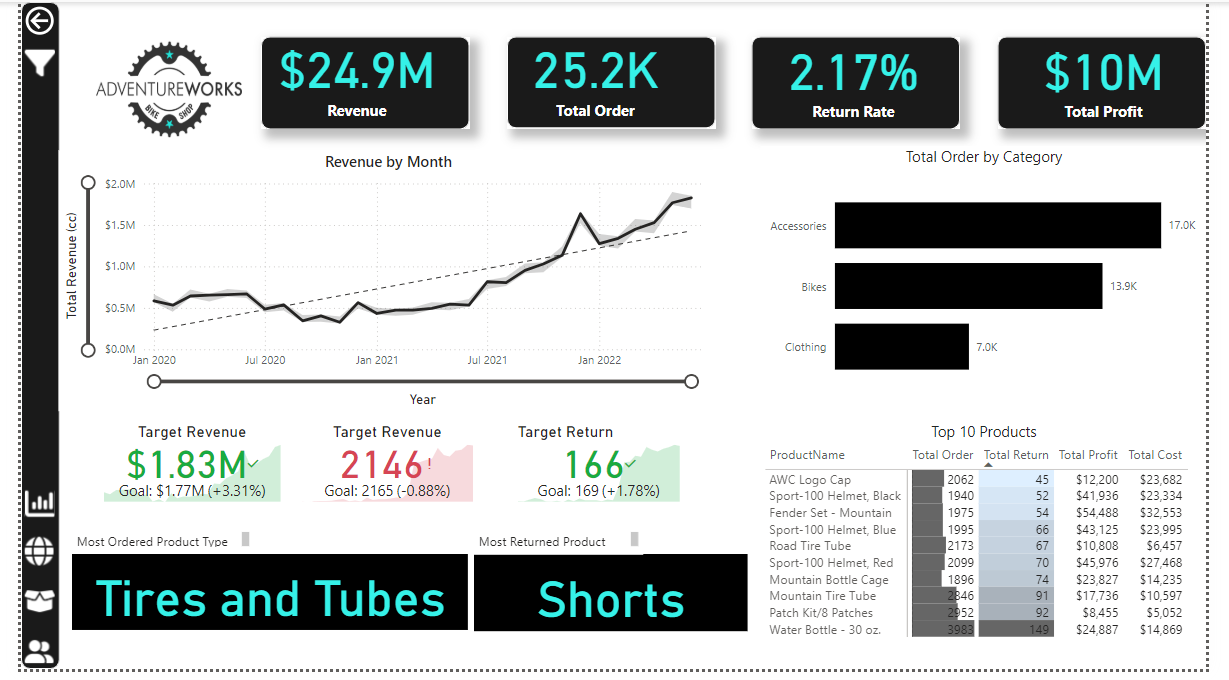

Layout of this report page (visuals, bound fields, positions):
{"tool":"powerbi","page":{"name":"Executive Dashboard","canvas":[1280,720],"ordinal":0},"visuals":[{"type":"image","title":"Logo","box":[57.7,0,203.4,189],"z":0},{"type":"card","fields":{"Values":["Measure.Total Revenue (cc)"]},"box":[269,0,186.8,155.3],"z":0,"group":"g2"},{"type":"shape","box":[259.2,37.2,225,100.3],"z":0,"group":"g1"},{"type":"actionButton","box":[0,520.7,41.6,40.4],"z":0,"group":"g3"},{"type":"card","fields":{"Values":["Measure.Total Order"]},"box":[534.7,5.6,170.8,145.5],"z":1000,"group":"g2"},{"type":"group","id":"g1","title":"KPI Rectangles","box":[259.2,37.2,1019.5,100.3],"z":1000},{"type":"shape","box":[1053.7,37.2,225,100.3],"z":1000,"group":"g1"},{"type":"actionButton","box":[0,625.9,41.6,40.4],"z":1000,"group":"g3"},{"type":"shape","box":[0,0,41.8,719.9],"z":2000},{"type":"card","fields":{"Values":["Measure.Total Profit"]},"box":[1057.2,29.4,221.9,100.7],"z":2000,"group":"g2"},{"type":"shape","box":[789.1,37.2,225,100.3],"z":2000,"group":"g1"},{"type":"actionButton","box":[0.5,680.9,41.1,39.1],"z":2000,"group":"g3"},{"type":"card","fields":{"Values":["Measure.Return Rate"]},"box":[804.7,7,186.8,145.5],"z":3000,"group":"g2"},{"type":"shape","box":[524.1,37.2,225,99],"z":3000,"group":"g1"},{"type":"lineChart","title":"Revenue by Month","fields":{"Y":["Measure.Total Revenue (cc)"],"Category":["Calendar Lookup.Start of Year Hierarchy.Start of Month"]},"box":[41.2,160.5,712.2,281.3],"z":3000},{"type":"actionButton","box":[0,573.3,41.1,39.1],"z":3000,"group":"g3"},{"type":"kpi","title":"Target Revenue ","fields":{"Indicator":["Measure.Total Revenue (cc)"],"Goal":["Measure.Previous Mon Rev"],"TrendLine":["Calendar Lookup.Start of Month"]},"box":[84.1,453,201.2,91.2],"z":4000},{"type":"kpi","title":"Target Return ","fields":{"TrendLine":["Calendar Lookup.Start of Month"],"Indicator":["Measure.Total Return"],"Goal":["Measure.Previous Mon Return"]},"box":[530.3,453,185,91.2],"z":5000},{"type":"barChart","title":"Total Order by Category","fields":{"Category":["Product Categories Lookup.CategoryName"],"Y":["Measure.Total Order"]},"box":[797.5,155,482.5,275],"z":6000},{"type":"kpi","title":"Target Revenue ","fields":{"TrendLine":["Calendar Lookup.Start of Month"],"Indicator":["Measure.Total Order"],"Goal":["Measure.Previous Mon Orders"]},"box":[297.8,453,195,91.2],"z":7000},{"type":"pivotTable","title":"Top 10 Products ","fields":{"Values":["Measure.Total Order","Measure.Total Return","Measure.Total Profit","Measure.Total Cost"],"Rows":["Product Lookup.ProductName"]},"box":[797.5,451.2,482.5,243.8],"z":8000},{"type":"card","fields":{"Values":["Min(Product Subcategories Lookup.SubcategoryName)"]},"box":[55.9,595.8,427,81.9],"z":9000},{"type":"card","fields":{"Values":["Min(Product Subcategories Lookup.SubcategoryName)"]},"box":[489.1,595.8,295.4,83.2],"z":10000},{"type":"textbox","box":[55.9,566,196.1,26.1],"z":11000},{"type":"textbox","box":[489.1,566,182.5,29.8],"z":12000},{"type":"group","id":"g2","title":"Group 1","box":[269,0,1010.1,151.6],"z":13000},{"type":"actionButton","box":[0,0,41.6,40.4],"z":14000},{"type":"group","id":"g3","title":"Group 1","box":[0,520.7,41.6,199.3],"z":15000},{"type":"actionButton","box":[0,45.9,42.2,41],"z":16000}]}

Visuals, with their boxes on the page's 1280x720 design canvas (x1, y1, x2, y2). These are canvas units, not pixel positions in the 1229x680 screenshot, which may show the page scaled, cropped or inside an application window:
"Logo" image: [x1=58, y1=0, x2=261, y2=189]
card - Measure.Total Revenue (cc): [x1=269, y1=0, x2=456, y2=155]
shape: [x1=259, y1=37, x2=484, y2=138]
actionButton: [x1=0, y1=521, x2=42, y2=561]
card - Measure.Total Order: [x1=535, y1=6, x2=706, y2=151]
"KPI Rectangles" group: [x1=259, y1=37, x2=1279, y2=138]
shape: [x1=1054, y1=37, x2=1279, y2=138]
actionButton: [x1=0, y1=626, x2=42, y2=666]
shape: [x1=0, y1=0, x2=42, y2=720]
card - Measure.Total Profit: [x1=1057, y1=29, x2=1279, y2=130]
shape: [x1=789, y1=37, x2=1014, y2=138]
actionButton: [x1=0, y1=681, x2=42, y2=720]
card - Measure.Return Rate: [x1=805, y1=7, x2=992, y2=152]
shape: [x1=524, y1=37, x2=749, y2=136]
"Revenue by Month" lineChart: [x1=41, y1=160, x2=753, y2=442]
actionButton: [x1=0, y1=573, x2=41, y2=612]
"Target Revenue " kpi: [x1=84, y1=453, x2=285, y2=544]
"Target Return " kpi: [x1=530, y1=453, x2=715, y2=544]
"Total Order by Category" barChart: [x1=798, y1=155, x2=1280, y2=430]
"Target Revenue " kpi: [x1=298, y1=453, x2=493, y2=544]
"Top 10 Products " pivotTable: [x1=798, y1=451, x2=1280, y2=695]
card - Min(Product Subcategories Lookup.SubcategoryName): [x1=56, y1=596, x2=483, y2=678]
card - Min(Product Subcategories Lookup.SubcategoryName): [x1=489, y1=596, x2=784, y2=679]
textbox: [x1=56, y1=566, x2=252, y2=592]
textbox: [x1=489, y1=566, x2=672, y2=596]
"Group 1" group: [x1=269, y1=0, x2=1279, y2=152]
actionButton: [x1=0, y1=0, x2=42, y2=40]
"Group 1" group: [x1=0, y1=521, x2=42, y2=720]
actionButton: [x1=0, y1=46, x2=42, y2=87]
